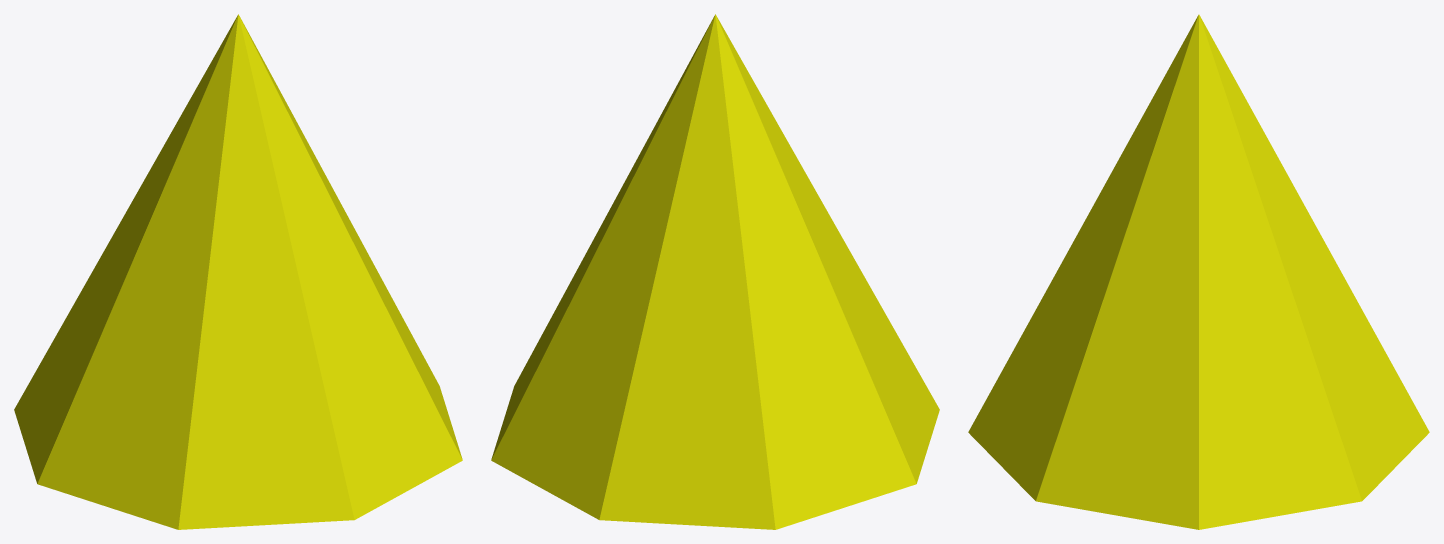
The picture shows the model from 3 angles, left to right: view 1: azimuth 30°, elevation 25°; view 2: azimuth 150°, elevation 25°; view 3: azimuth 270°, elevation 25°; orthographic projection.
Parts seen in each view (by area): view 1: SM_Primitive_Cone_02; view 2: SM_Primitive_Cone_02; view 3: SM_Primitive_Cone_02.
Boxes of the visible parts, box(x1,y1,x2,y2) form: SM_Primitive_Cone_02: box(14, 14, 462, 529); SM_Primitive_Cone_02: box(491, 14, 939, 529); SM_Primitive_Cone_02: box(968, 14, 1429, 529).
Size of the model in its own units: 1 by 1 by 1.
Materials: 1 (1 with a texture image).
